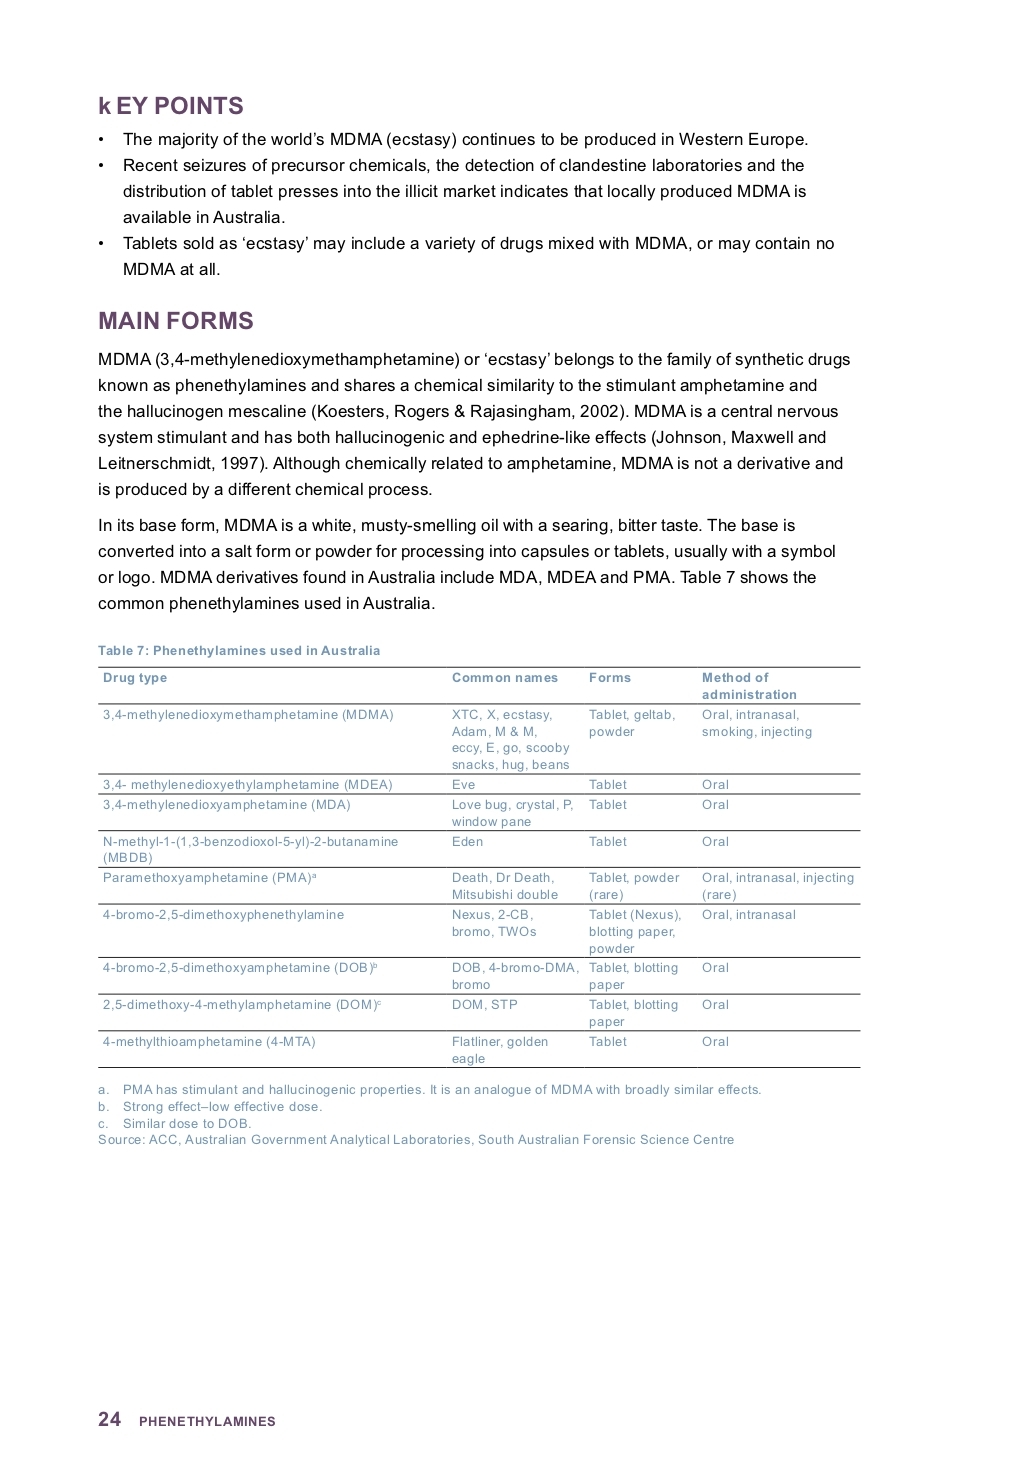Table: (98, 645, 860, 1067)
